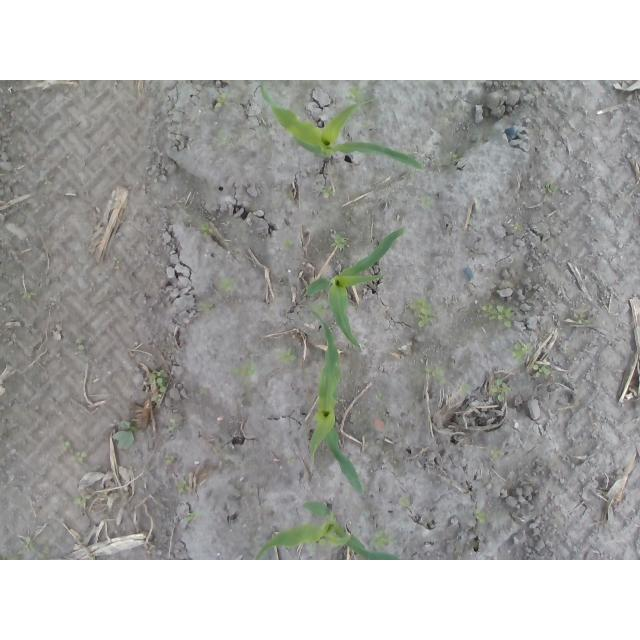Maize: (259, 82, 425, 174), (306, 228, 407, 349), (306, 307, 365, 498), (254, 500, 402, 560)
Weeds: (480, 303, 516, 328), (407, 297, 433, 327), (492, 379, 515, 405), (63, 441, 90, 463), (114, 421, 135, 449), (148, 371, 168, 397), (236, 361, 257, 383), (370, 531, 393, 551), (510, 344, 533, 364), (424, 364, 446, 384), (331, 234, 349, 253), (276, 349, 296, 366), (18, 538, 38, 555), (532, 362, 553, 378), (73, 494, 92, 510), (215, 92, 230, 108), (168, 418, 180, 438), (461, 381, 476, 397), (349, 86, 363, 103), (220, 278, 235, 292), (422, 197, 437, 211), (185, 510, 202, 522), (194, 303, 214, 313), (473, 511, 487, 525), (491, 448, 505, 461), (321, 185, 336, 197), (77, 337, 89, 352), (200, 225, 212, 239), (575, 313, 589, 324), (446, 151, 460, 161), (21, 290, 35, 300), (283, 236, 294, 248), (219, 136, 233, 145), (401, 496, 412, 507), (546, 184, 559, 193), (166, 454, 175, 467), (177, 482, 189, 491), (376, 393, 385, 404), (113, 257, 123, 266), (512, 222, 522, 230), (288, 458, 296, 466)
